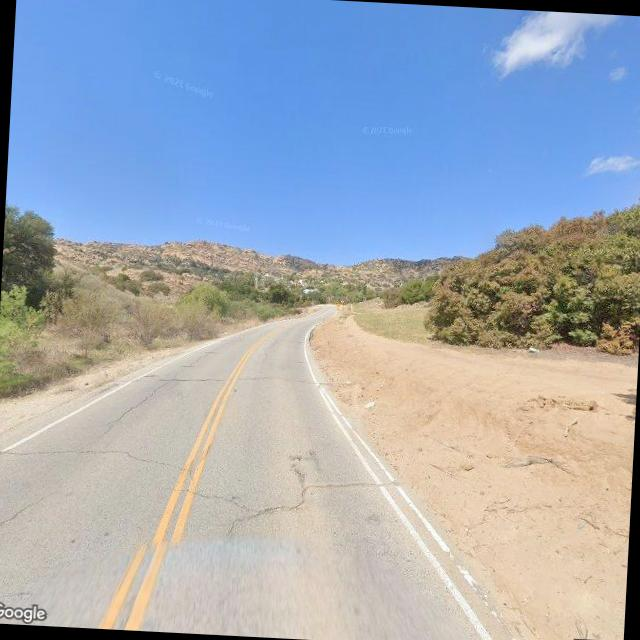crack: (0, 443, 405, 534), (92, 372, 174, 444), (115, 366, 322, 392), (0, 482, 57, 534)
